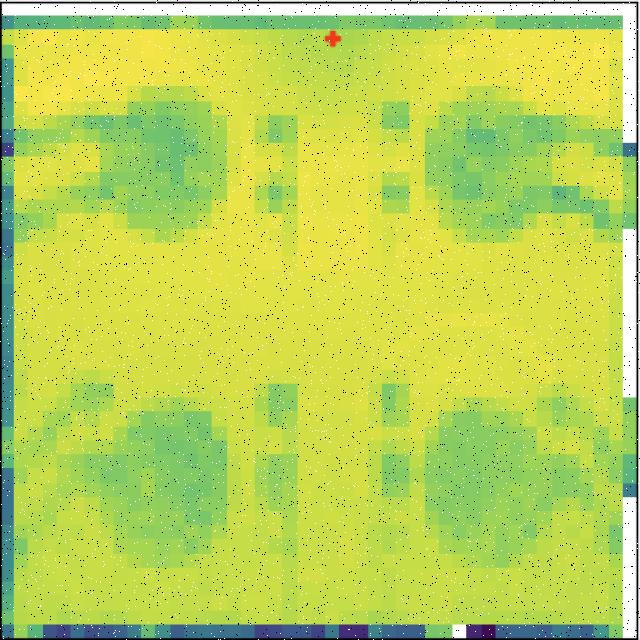Concrete: (426, 81, 574, 250)
Glass: (94, 81, 230, 246)
Metal: (422, 395, 560, 575)
Wood: (88, 395, 233, 571)
